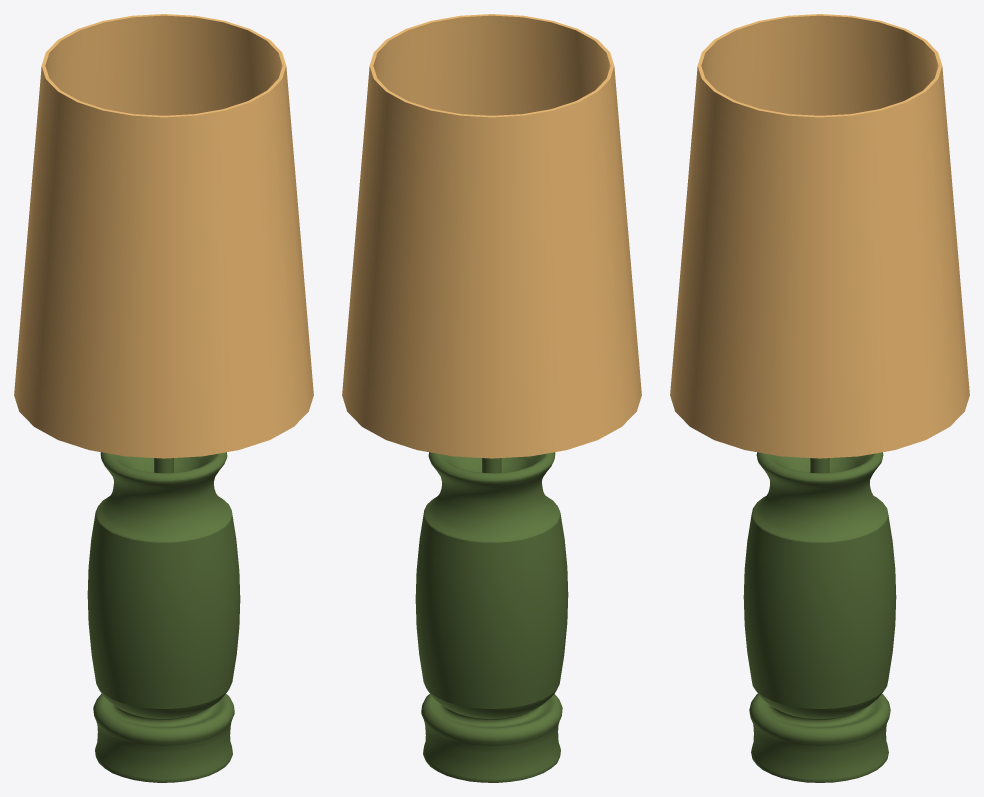
Rendered from retro_lamp_a_01.FBX.
3 renders of one model, left to right at view 1: azimuth 30°, elevation 25°; view 2: azimuth 150°, elevation 25°; view 3: azimuth 270°, elevation 25°, orthographic.
Parts seen in each view (by area): view 1: retro_lamp_a_01; view 2: retro_lamp_a_01; view 3: retro_lamp_a_01.
Part boxes in pixels (<box>): retro_lamp_a_01: <box>14,14,313,782</box>; retro_lamp_a_01: <box>342,14,641,782</box>; retro_lamp_a_01: <box>670,14,969,782</box>.
Size of the model in its own units: 39.2 by 99.31 by 39.2.
